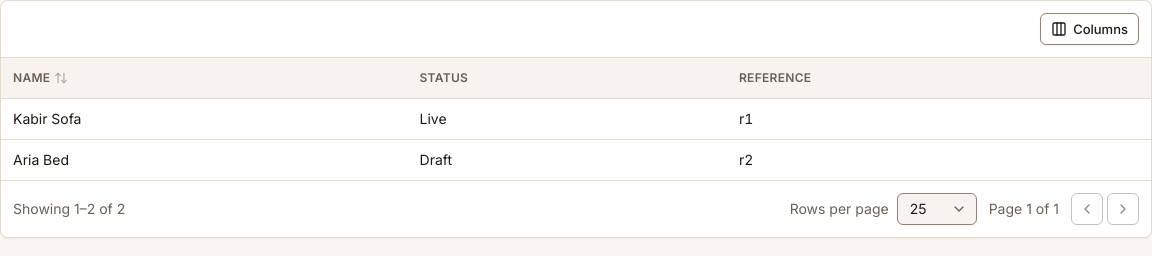
Test: DataTable › hides columns on request and remembers it
Click the button "Columns": click(1090, 29) [1040,13,1139,45]
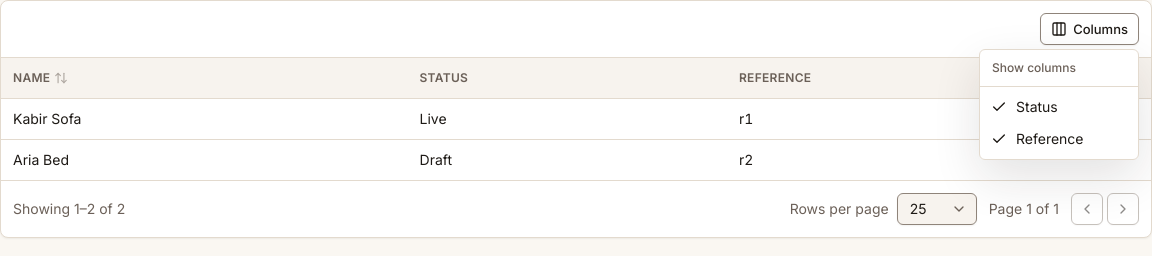
Click the menu item "Reference": click(1037, 138) [991,130,1084,147]
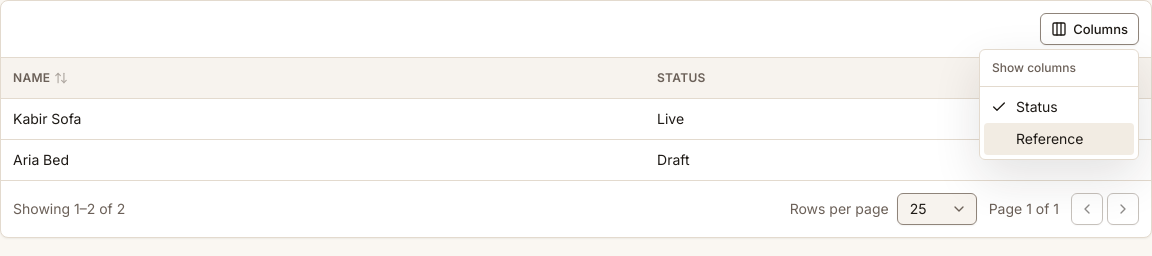
Press Escape
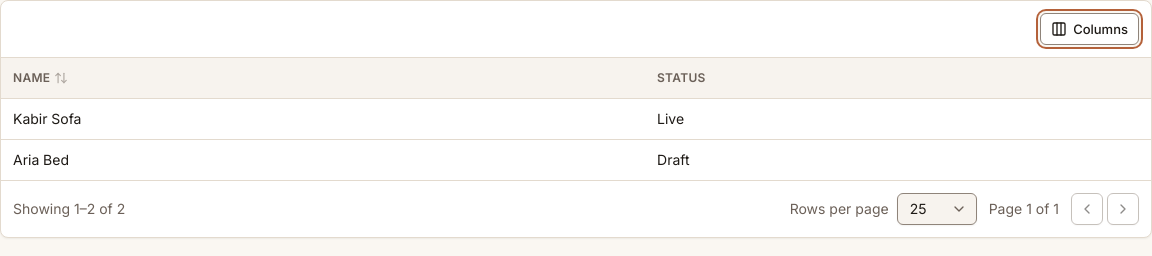
Expected: the menu item "Reference" is gone
